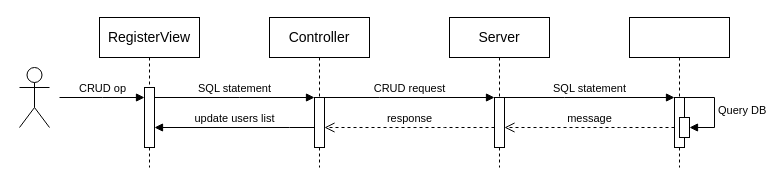
Image size: 784x185. Some labels were removed from this diagram. The shapes that lost their labels are listed below. From the top down, each one's centre as x and y in pixels, then its label:
the point at 34,97: Admin
the point at 679,92: Model
